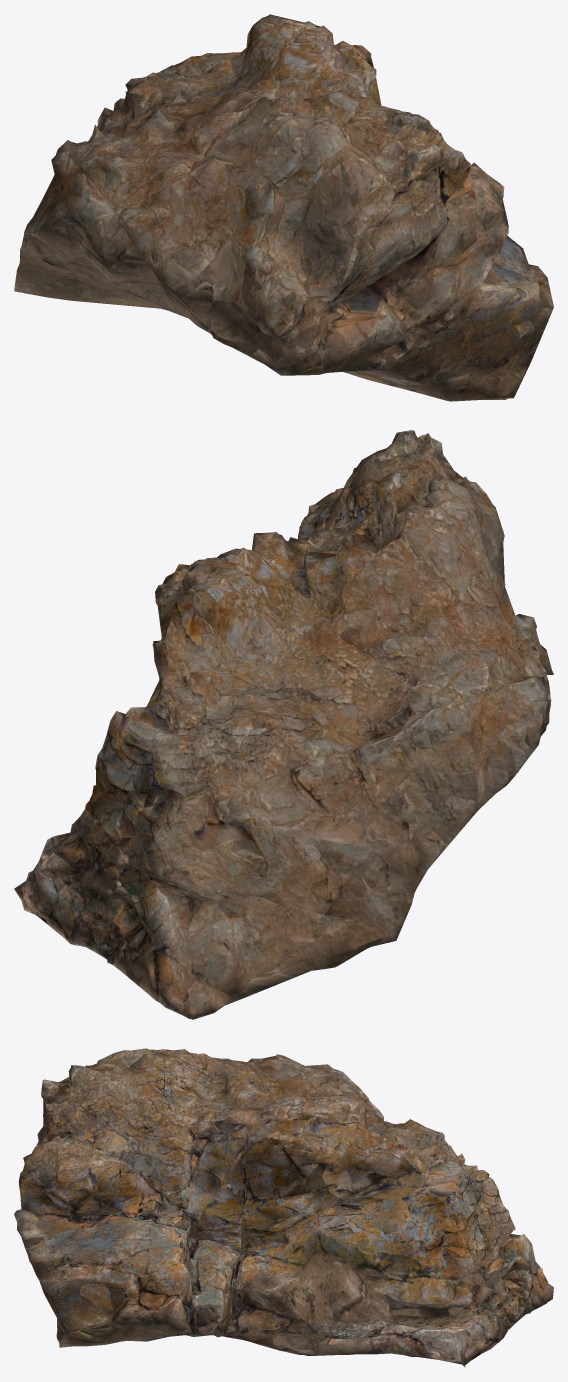
The model's file is coastal-rock.glb.
The picture shows the model from 3 angles, top to bottom: view 1: azimuth 30°, elevation 25°; view 2: azimuth 150°, elevation 25°; view 3: azimuth 270°, elevation 25°; orthographic projection. The views are drawn at different scales.
Parts seen in each view (by area): view 1: LOD0_0, LOD1_0; view 2: LOD0_0, LOD1_0; view 3: LOD0_0, LOD1_0.
Part boxes in pixels (x1=…): LOD0_0: x1=14, y1=15, x2=552, y2=400; LOD1_0: x1=19, y1=14, x2=553, y2=401; LOD0_0: x1=14, y1=430, x2=553, y2=1019; LOD1_0: x1=21, y1=430, x2=549, y2=1018; LOD0_0: x1=14, y1=1048, x2=553, y2=1367; LOD1_0: x1=19, y1=1049, x2=548, y2=1363.
Size of the model in its own units: 3.83 by 2.99 by 5.47.
1 material, 1 textured.
